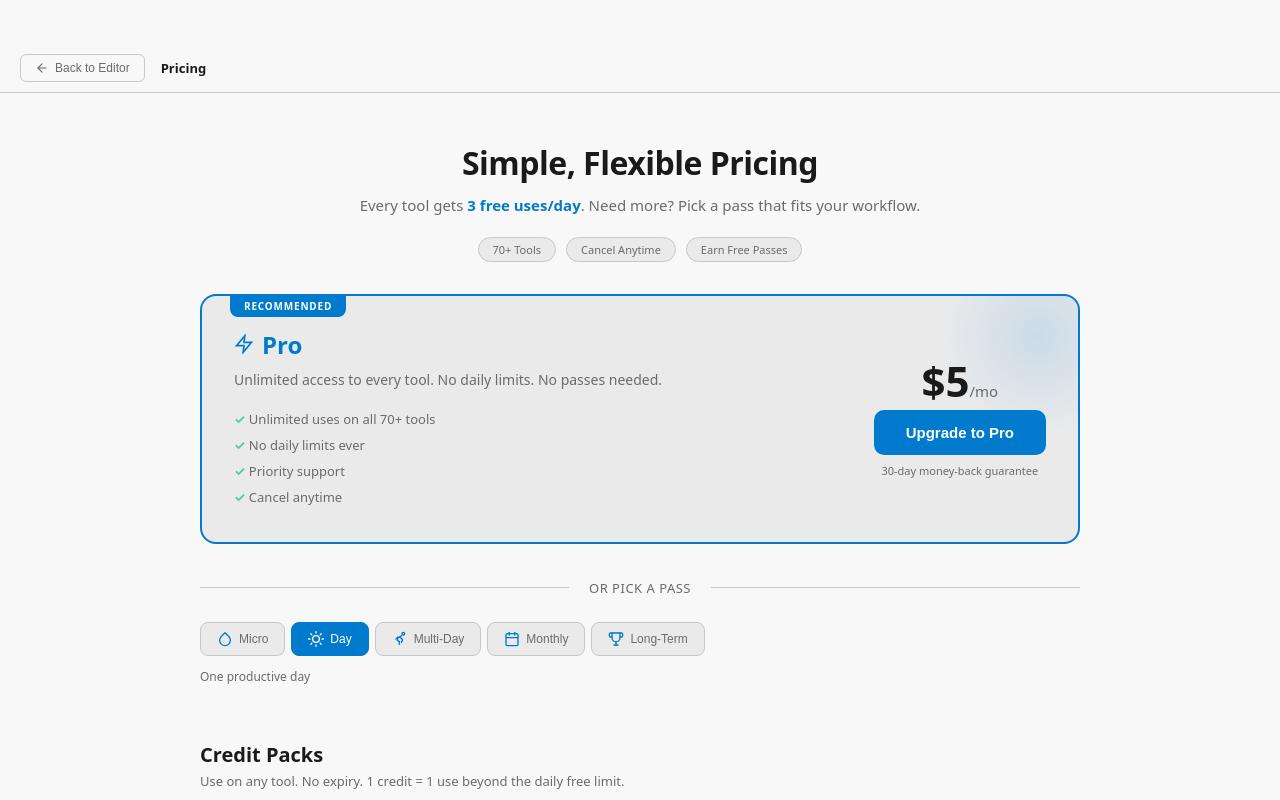
it: PricingPage › shows per-day price for multi-day passes
The width and height of the screenshot is (1280, 800).
Click the button "Multi-Day": [428, 638] box [375, 622, 481, 656]
(page scrolled)
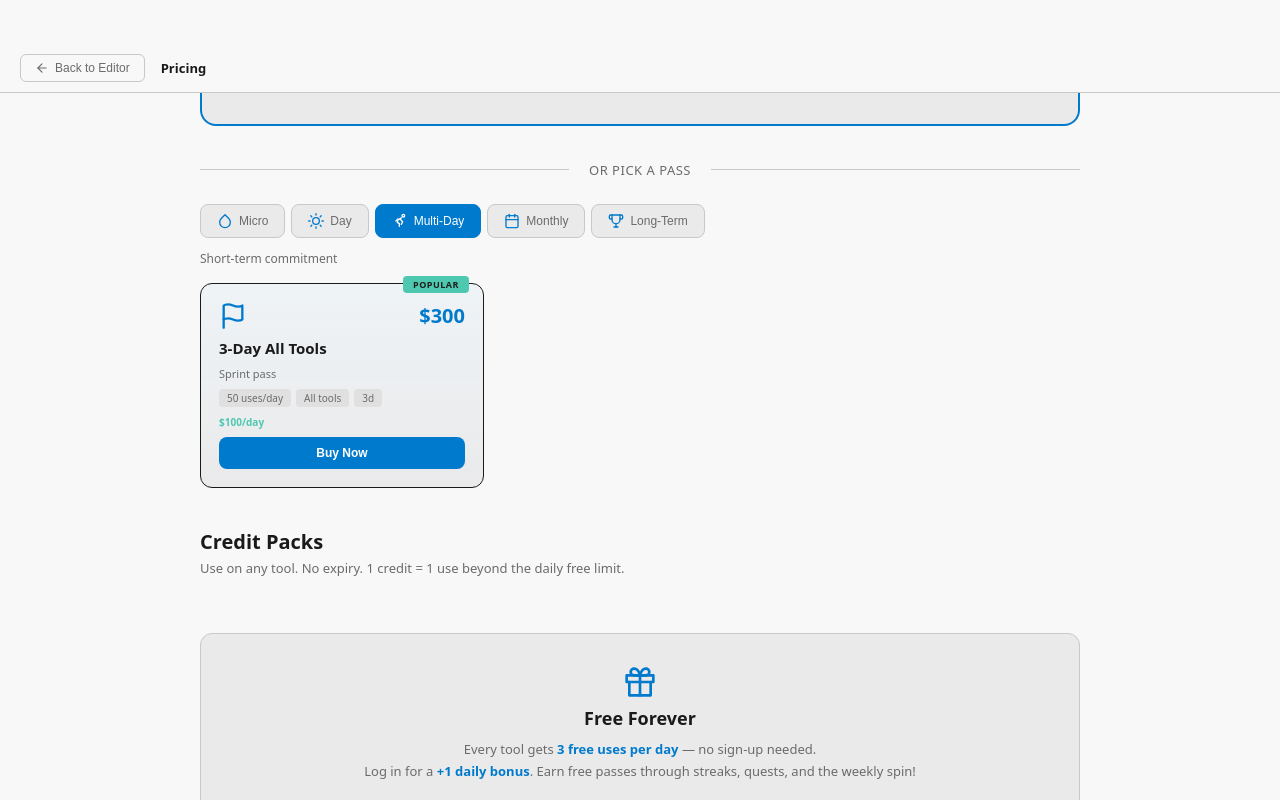
Check: the text "$100/day" is shown, box [219, 415, 264, 429]
